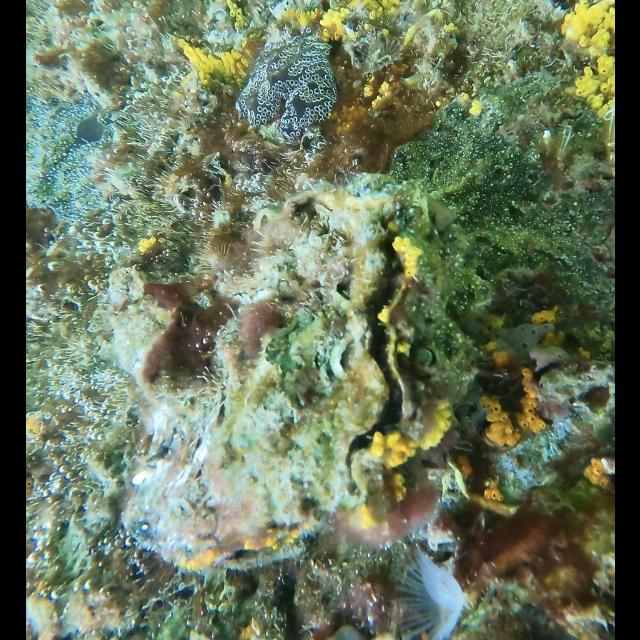Oyster-Open: (118, 183, 426, 577)
